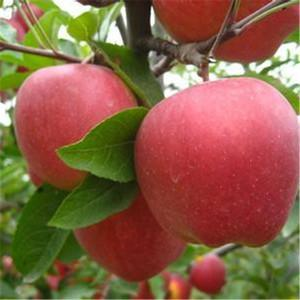apple: (134, 75, 300, 246), (11, 61, 141, 189), (72, 189, 186, 283)
